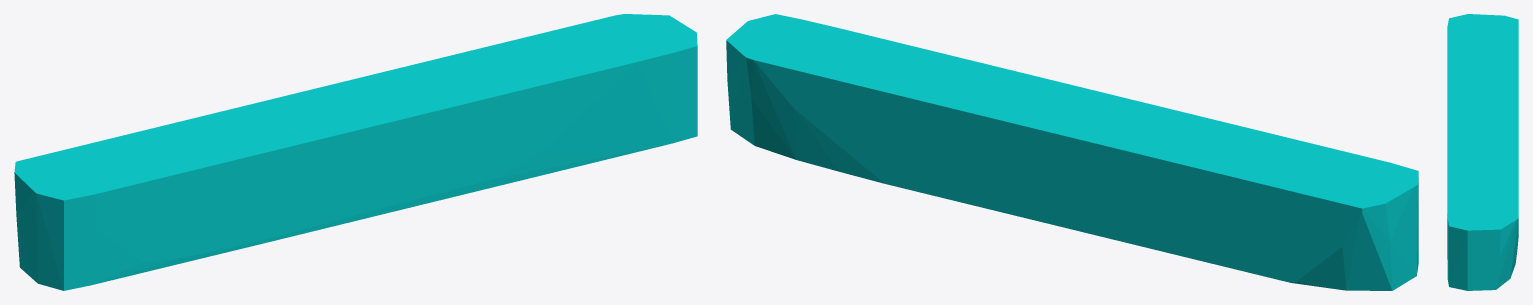
3 renders of one model, left to right at view 1: azimuth 30°, elevation 25°; view 2: azimuth 150°, elevation 25°; view 3: azimuth 270°, elevation 25°, orthographic. The views are drawn at different scales.
Bounding box in the file's own units: 12.98 × 1.7 × 1.81.
